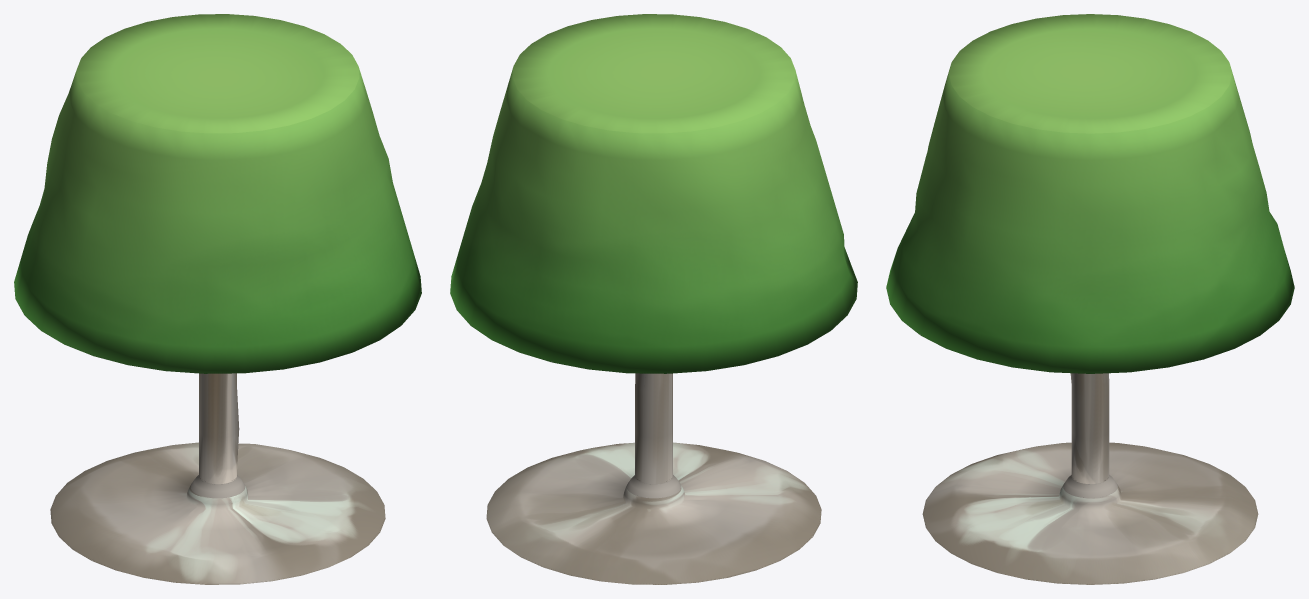
Rendered from DeskLamp.fbx.
The picture shows the model from 3 angles, left to right: view 1: azimuth 30°, elevation 25°; view 2: azimuth 150°, elevation 25°; view 3: azimuth 270°, elevation 25°; orthographic projection.
Parts seen in each view (by area): view 1: DeskLamp; view 2: DeskLamp; view 3: DeskLamp.
Boxes of the visible parts, x1,y1,x2,y2 form: DeskLamp: (14, 14, 421, 584); DeskLamp: (450, 14, 857, 584); DeskLamp: (886, 14, 1294, 584).
Size of the model in its own units: 43.77 by 52.04 by 43.77.
Materials: 1 (1 with a texture image).
